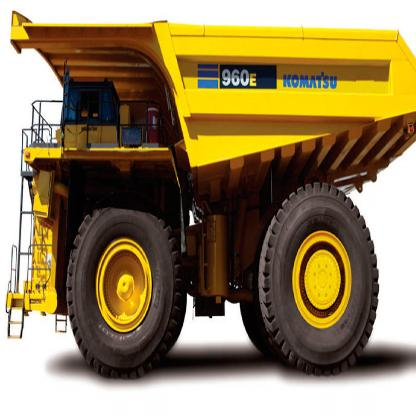dump_truck: (9, 4, 414, 372)
